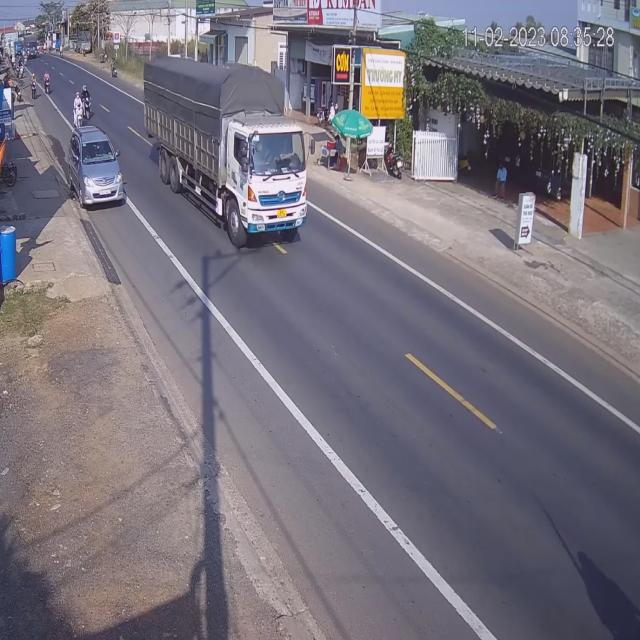car: (69, 127, 123, 211)
motorbike: (82, 86, 94, 120), (74, 93, 84, 126), (44, 69, 52, 94), (30, 75, 37, 98)
truck: (148, 56, 316, 243)
